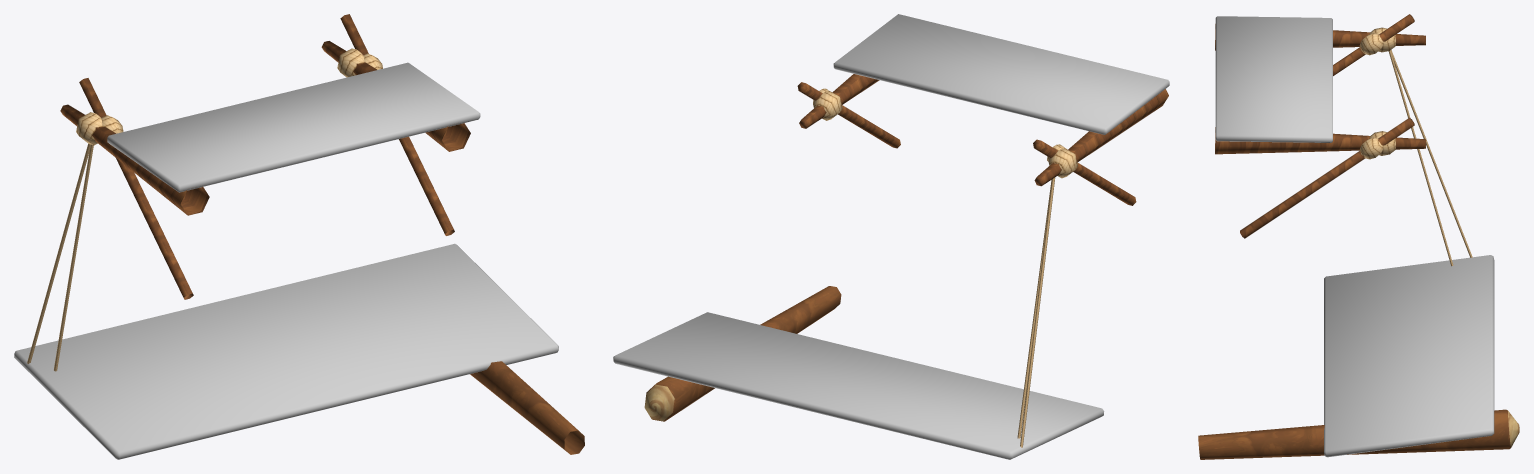
Rendered from Platform3.fbx.
3 renders of one model, left to right at view 1: azimuth 30°, elevation 25°; view 2: azimuth 150°, elevation 25°; view 3: azimuth 270°, elevation 25°, orthographic. The views are drawn at different scales.
Parts seen in each view (by area): view 1: DoublePlatform; view 2: DoublePlatform; view 3: DoublePlatform.
Boxes of the visible parts, left/top/right/bottom form: DoublePlatform: left=14, top=14, right=584, bottom=459; DoublePlatform: left=613, top=14, right=1169, bottom=459; DoublePlatform: left=1198, top=14, right=1519, bottom=459.
Size of the model in its own units: 45.05 by 35.48 by 34.4.
